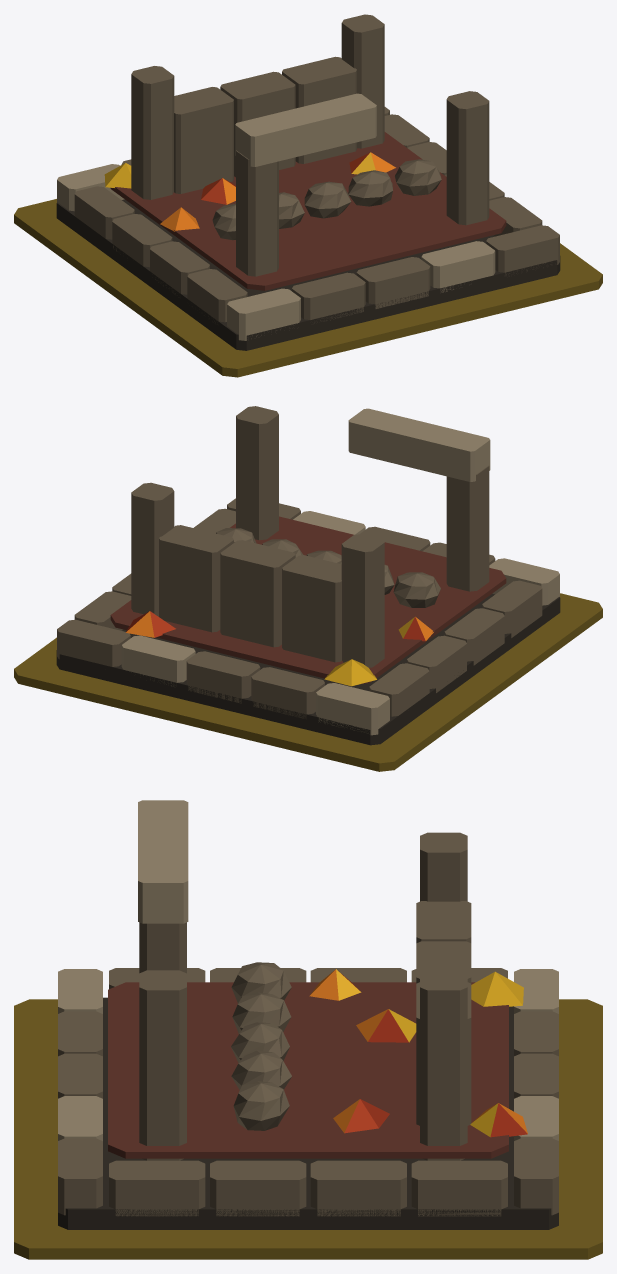
Rendered from sunken-chapel_t1.glb.
The picture shows the model from 3 angles, top to bottom: view 1: azimuth 30°, elevation 25°; view 2: azimuth 150°, elevation 25°; view 3: azimuth 270°, elevation 25°; orthographic projection. The views are drawn at different scales.
Parts seen in each view (by area): view 1: MMR | sunken-chapel | T01 Architecture.001, MMR | sunken-chapel | Tier 01 Ground.001, MMR | sunken-chapel | T01 Autumn Dressing.001; view 2: MMR | sunken-chapel | T01 Architecture.001, MMR | sunken-chapel | Tier 01 Ground.001, MMR | sunken-chapel | T01 Autumn Dressing.001; view 3: MMR | sunken-chapel | T01 Architecture.001, MMR | sunken-chapel | Tier 01 Ground.001, MMR | sunken-chapel | T01 Autumn Dressing.001.
Boxes of the visible parts, bbox=[...] form: MMR | sunken-chapel | T01 Architecture.001: bbox=[56, 14, 560, 350]; MMR | sunken-chapel | Tier 01 Ground.001: bbox=[14, 199, 602, 377]; MMR | sunken-chapel | T01 Autumn Dressing.001: bbox=[104, 152, 395, 231]; MMR | sunken-chapel | T01 Architecture.001: bbox=[56, 406, 560, 745]; MMR | sunken-chapel | Tier 01 Ground.001: bbox=[14, 593, 602, 771]; MMR | sunken-chapel | T01 Autumn Dressing.001: bbox=[125, 611, 433, 686]; MMR | sunken-chapel | T01 Architecture.001: bbox=[58, 800, 558, 1229]; MMR | sunken-chapel | Tier 01 Ground.001: bbox=[14, 999, 602, 1259]; MMR | sunken-chapel | T01 Autumn Dressing.001: bbox=[309, 969, 527, 1137].
Bounding box in the file's own units: 2.35 × 1.13 × 2.35.
Materials: 1 (1 with a texture image).
